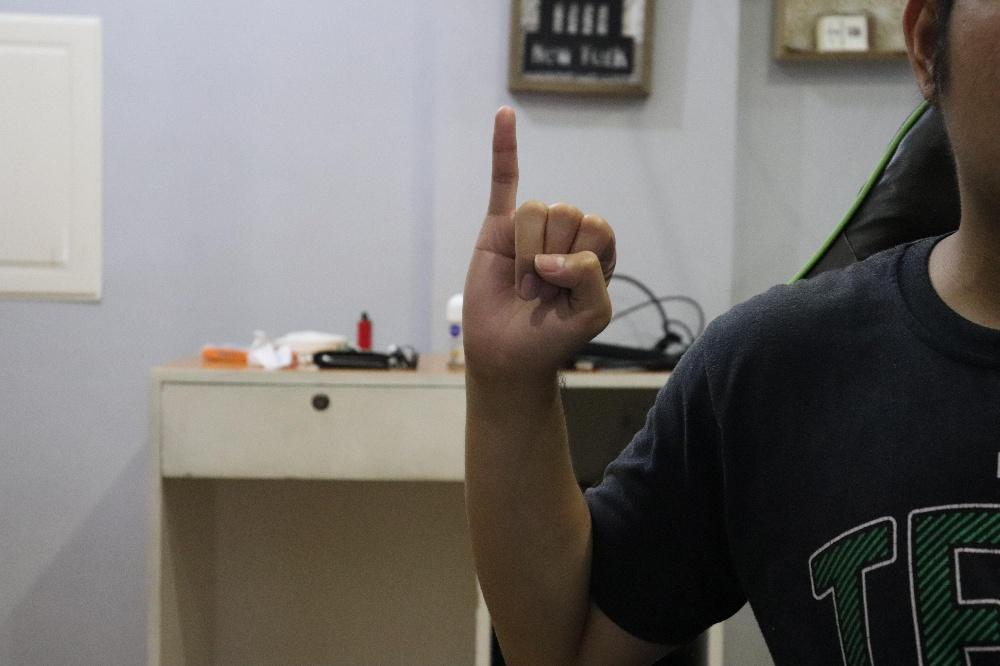i: (460, 103, 616, 378)
